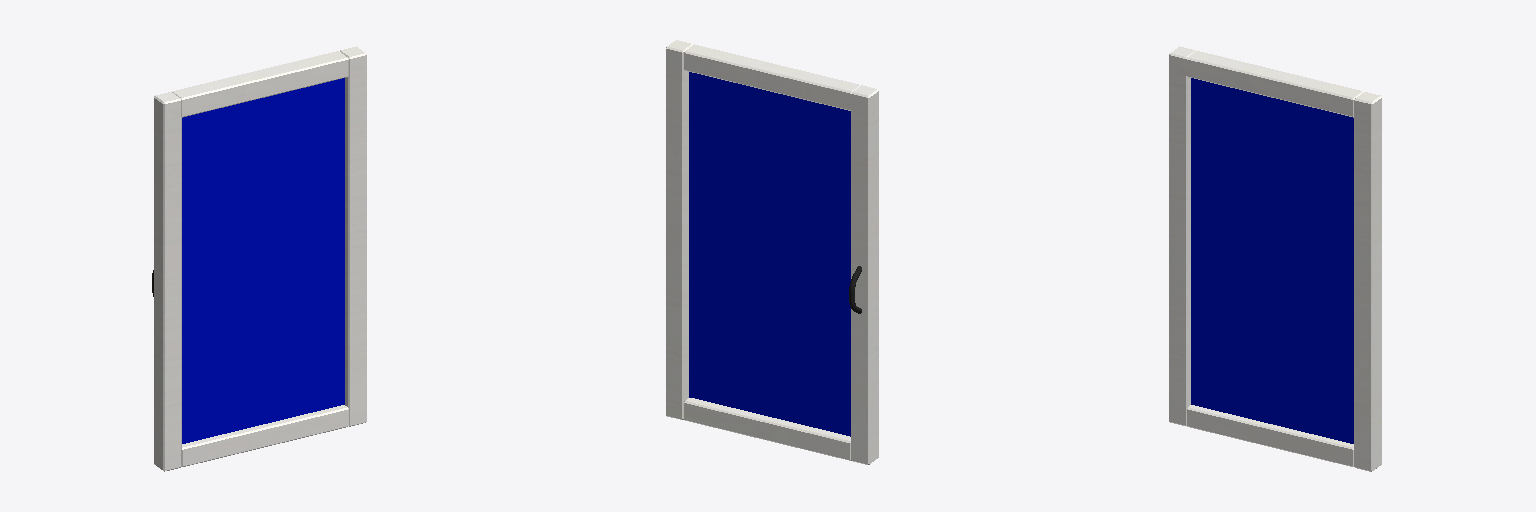
3 renders of one model, left to right at view 1: azimuth 30°, elevation 25°; view 2: azimuth 150°, elevation 25°; view 3: azimuth 330°, elevation 25°, orthographic.
Parts seen in each view (by area): view 1: Object216, qwqw; view 2: Object216, qwqw; view 3: Object216, qwqw.
Part boxes in pixels (x1,y1,x2,y2): Object216: (182,78,344,443); qwqw: (154,46,366,471); Object216: (689,72,850,436); qwqw: (666,40,878,464); Object216: (1191,78,1353,443); qwqw: (1169,46,1381,471).
Size of the model in its own units: 438 by 758 by 72.94.
Materials: 3 (1 with a texture image).